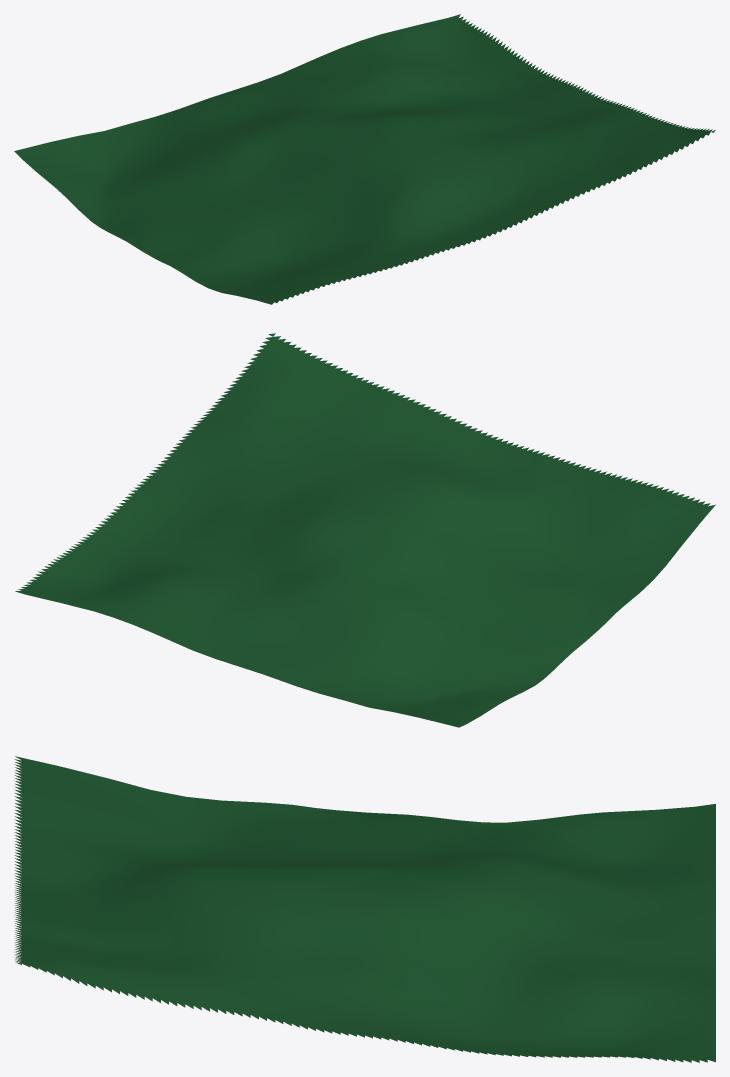
Rendered from payo_land_x2_ym2_lod2.glb.
3 renders of one model, top to bottom at view 1: azimuth 30°, elevation 25°; view 2: azimuth 150°, elevation 25°; view 3: azimuth 270°, elevation 25°, orthographic. The views are drawn at different scales.
Parts seen in each view (by area): view 1: payo_land_x2_ym2; view 2: payo_land_x2_ym2; view 3: payo_land_x2_ym2.
Boxes of the visible parts, bbox=[...] form: payo_land_x2_ym2: bbox=[14, 14, 715, 304]; payo_land_x2_ym2: bbox=[15, 333, 715, 727]; payo_land_x2_ym2: bbox=[14, 756, 715, 1062].
Size of the model in its own units: 258 by 62.48 by 258.
